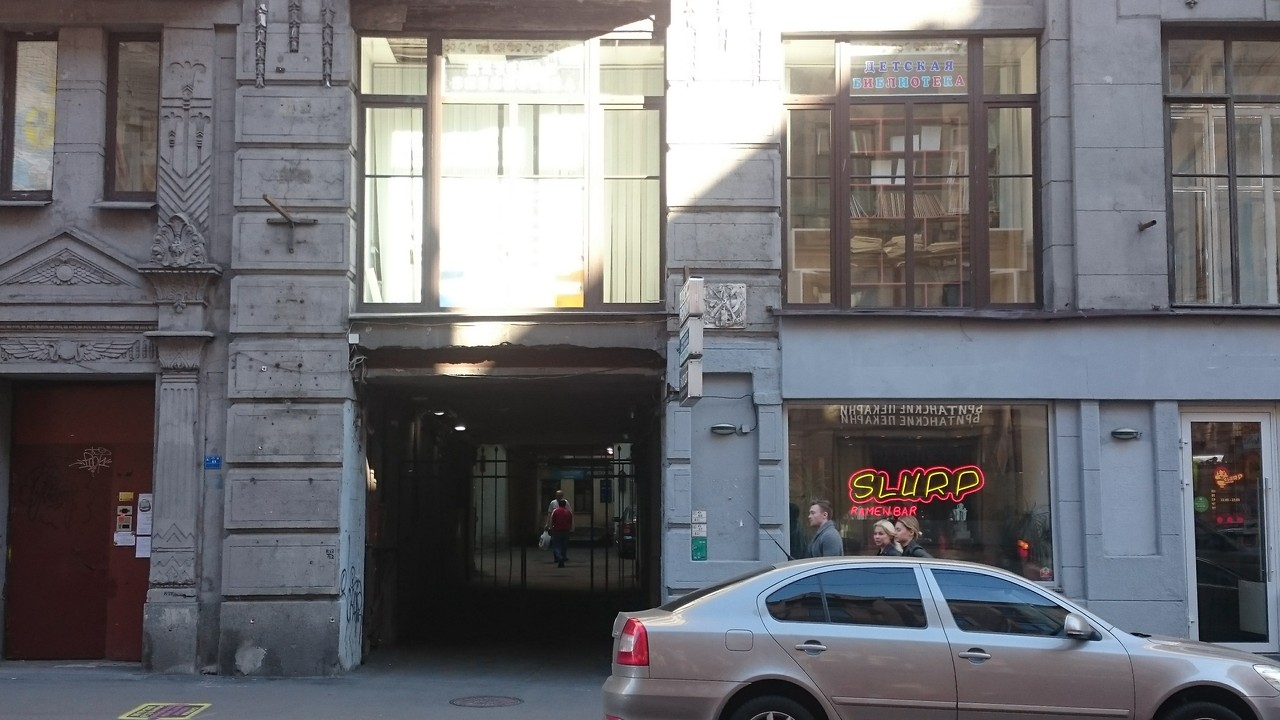arch: (337, 367, 666, 674)
cantilever: (672, 265, 707, 414)
door: (1177, 409, 1280, 653)
window: (357, 30, 662, 314), (782, 28, 1046, 311), (788, 407, 1055, 586), (1159, 24, 1280, 311), (102, 32, 161, 203), (6, 32, 59, 199)
